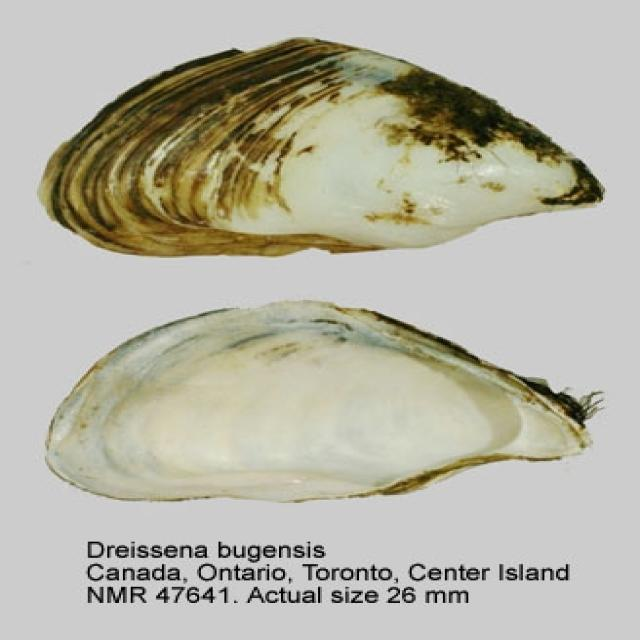Dreissena_bugensis: (31, 33, 614, 254), (43, 300, 603, 511)
